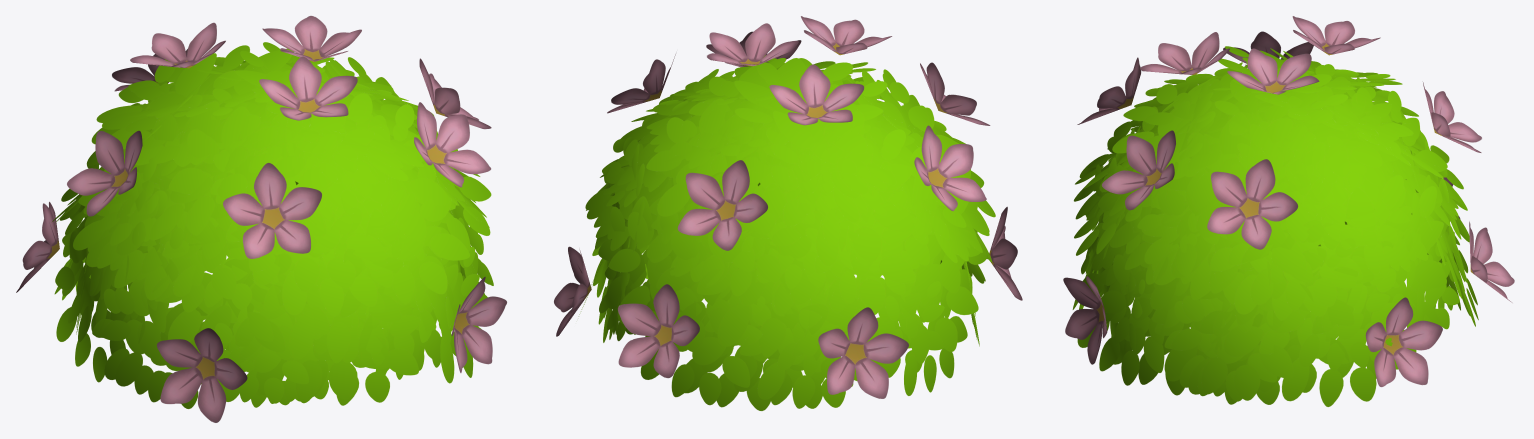
File: prop_sn_bush_flowers.glb
3 views of the same model, side by side, from view 1: azimuth 30°, elevation 25°; view 2: azimuth 150°, elevation 25°; view 3: azimuth 270°, elevation 25° (orthographic). The views are drawn at different scales.
Parts seen in each view (by area): view 1: Bush_Flowers; view 2: Bush_Flowers; view 3: Bush_Flowers.
Part boxes in pixels (x1,y1,x2,y2): Bush_Flowers: [16, 15, 506, 422]; Bush_Flowers: [554, 16, 1022, 410]; Bush_Flowers: [1063, 16, 1514, 406].
Bounding box in the file's own units: 1.09 × 0.7585 × 1.11.
Materials: 2 (2 with a texture image).
